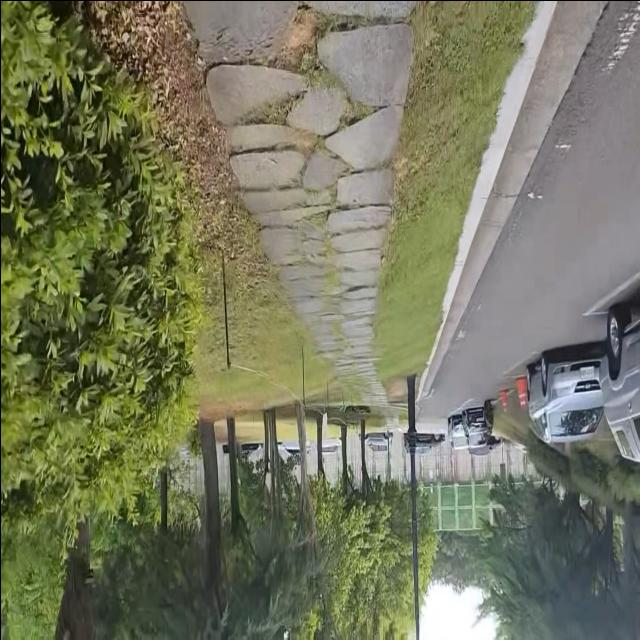obstacle: (519, 317, 605, 447), (595, 286, 640, 467), (405, 375, 422, 640), (443, 400, 496, 459)
road: (414, 0, 640, 425)
sidewalk: (180, 3, 561, 409)
